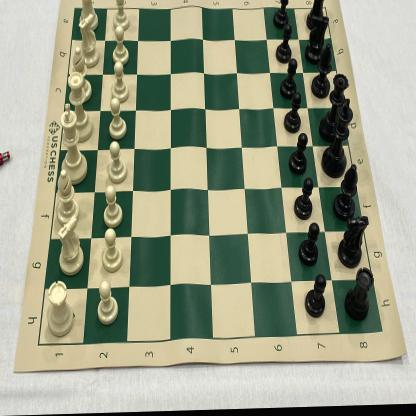black-bishop: (334, 164, 360, 222), (311, 46, 334, 100)
black-king: (322, 101, 354, 180)
black-knight: (338, 216, 369, 268), (306, 15, 330, 65)
black-pawn: (304, 275, 327, 322), (292, 178, 314, 224), (299, 224, 320, 270), (288, 134, 308, 176), (280, 60, 298, 101), (284, 94, 302, 135), (276, 26, 292, 66), (273, 0, 291, 33)
black-queen: (320, 75, 350, 144)
black-rook: (344, 268, 376, 324), (306, 0, 327, 33)
white-bishop: (56, 170, 80, 226), (72, 46, 92, 103)
white-king: (60, 102, 88, 186)
white-knight: (58, 216, 84, 276), (78, 14, 100, 69)
white-pawn: (93, 279, 119, 327), (102, 228, 123, 272), (107, 142, 128, 184), (103, 187, 123, 228), (108, 98, 127, 141), (112, 26, 130, 67), (111, 62, 129, 102), (114, 0, 130, 33)
white-queen: (67, 71, 92, 143)
white-rook: (45, 280, 74, 338), (80, 0, 100, 33)
